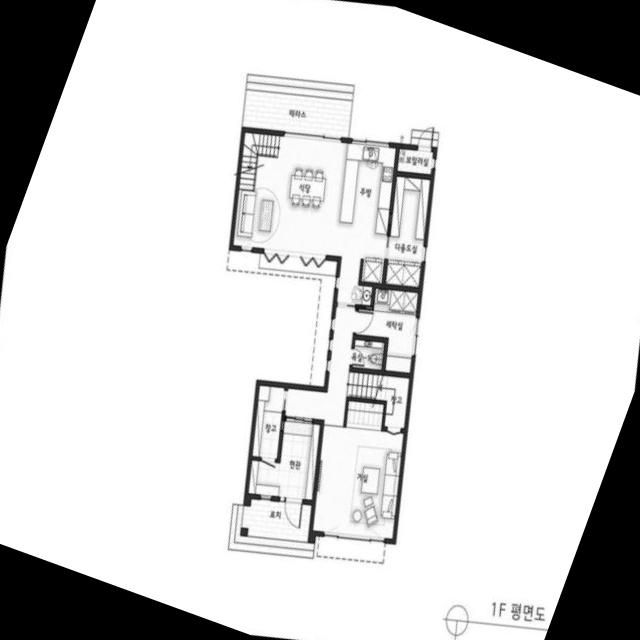background: (0, 0, 640, 640)
space_front: (248, 420, 319, 499)
space_kitchen: (286, 137, 395, 283)
space_living_room: (233, 136, 403, 538)
space_multipurpose_space: (385, 176, 430, 287)
space_other: (355, 309, 416, 373), (252, 385, 284, 458), (376, 375, 409, 428), (397, 148, 433, 174)
space_staircase: (239, 132, 280, 190), (346, 371, 379, 400)
space_toilet: (352, 339, 384, 370)
